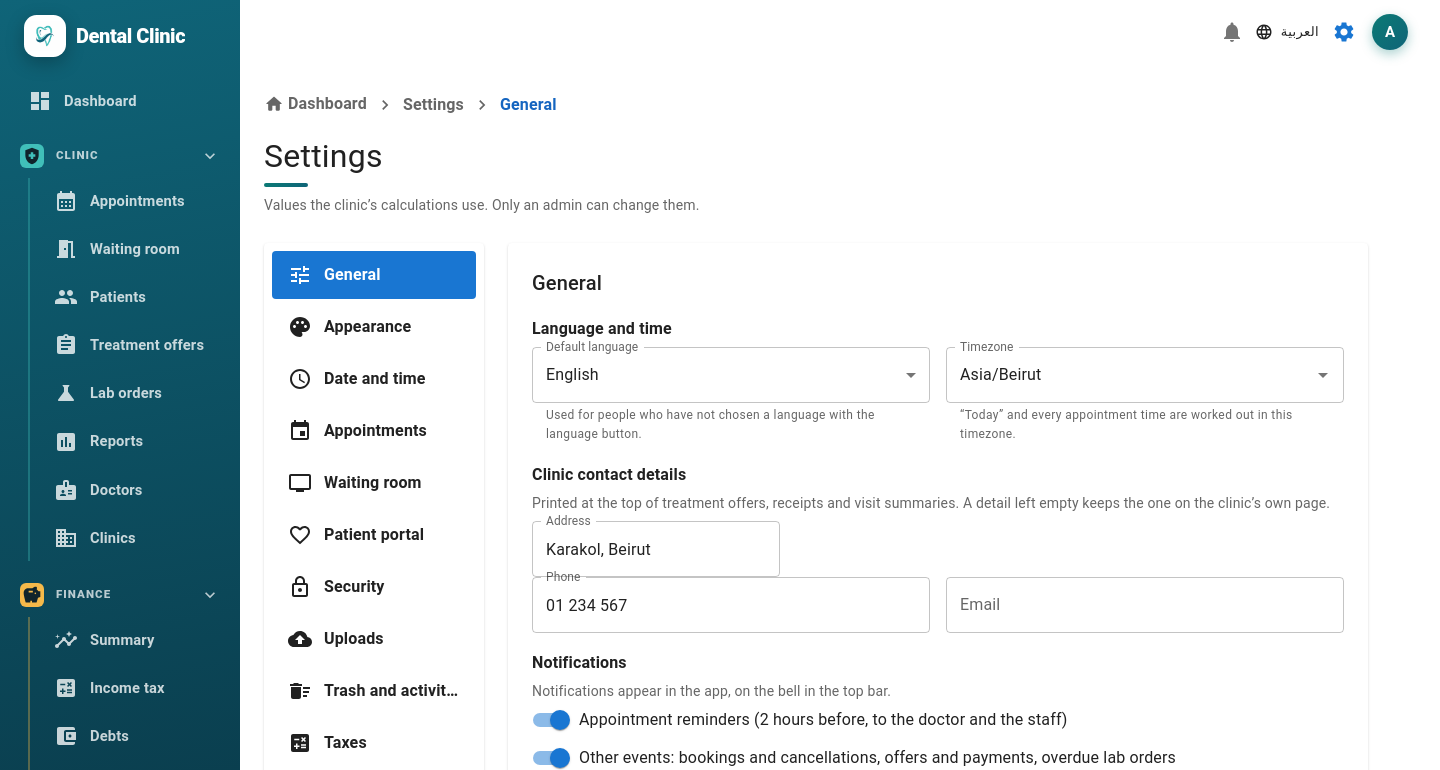
Scenario: the settings page › shows the section that was chosen, and the tax settings under Taxes
Click the link "Appearance" at coordinates (350, 326), box [288,314,411,338]
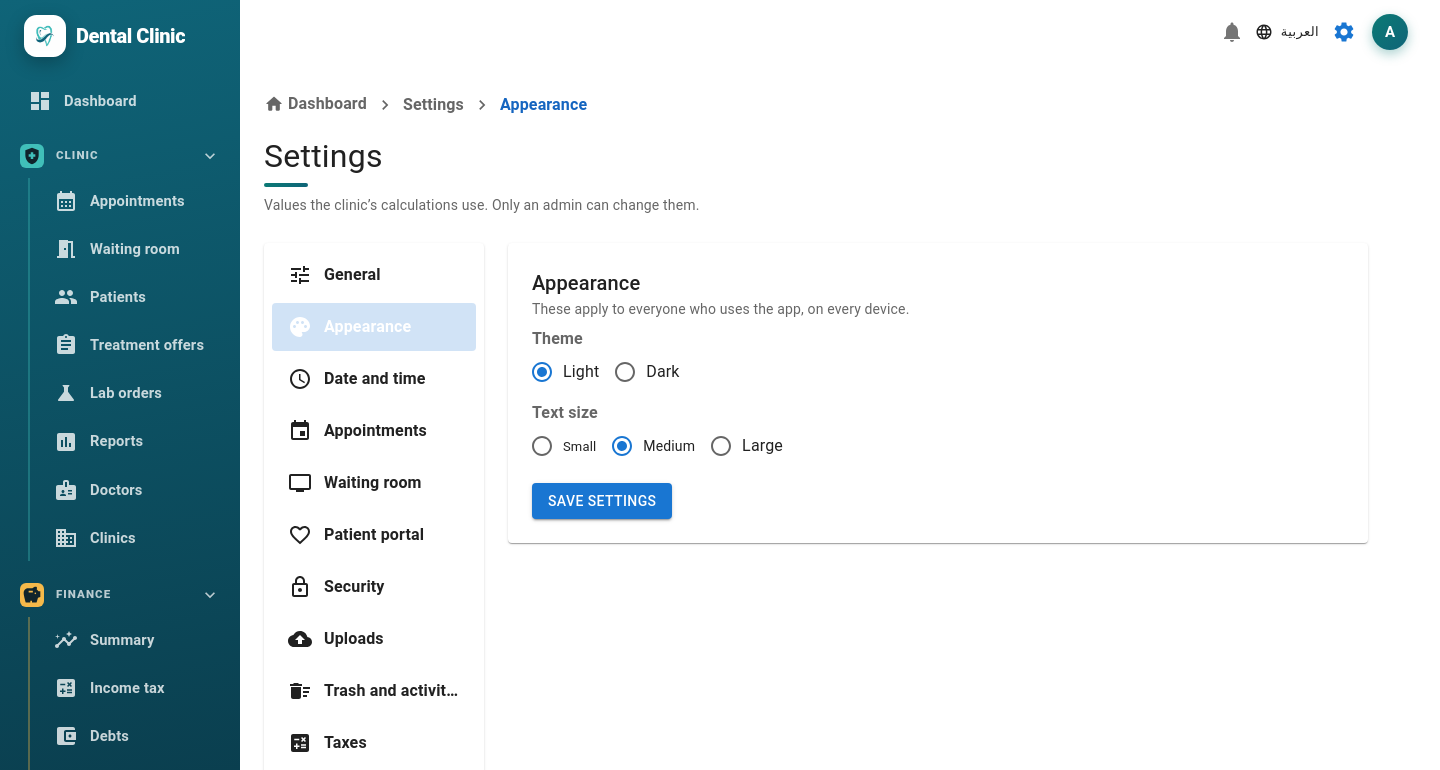
Result: the text "Text size" is shown at [532,402,598,422]
Click the link "Taxes" at coordinates (327, 742), box [288,730,367,754]
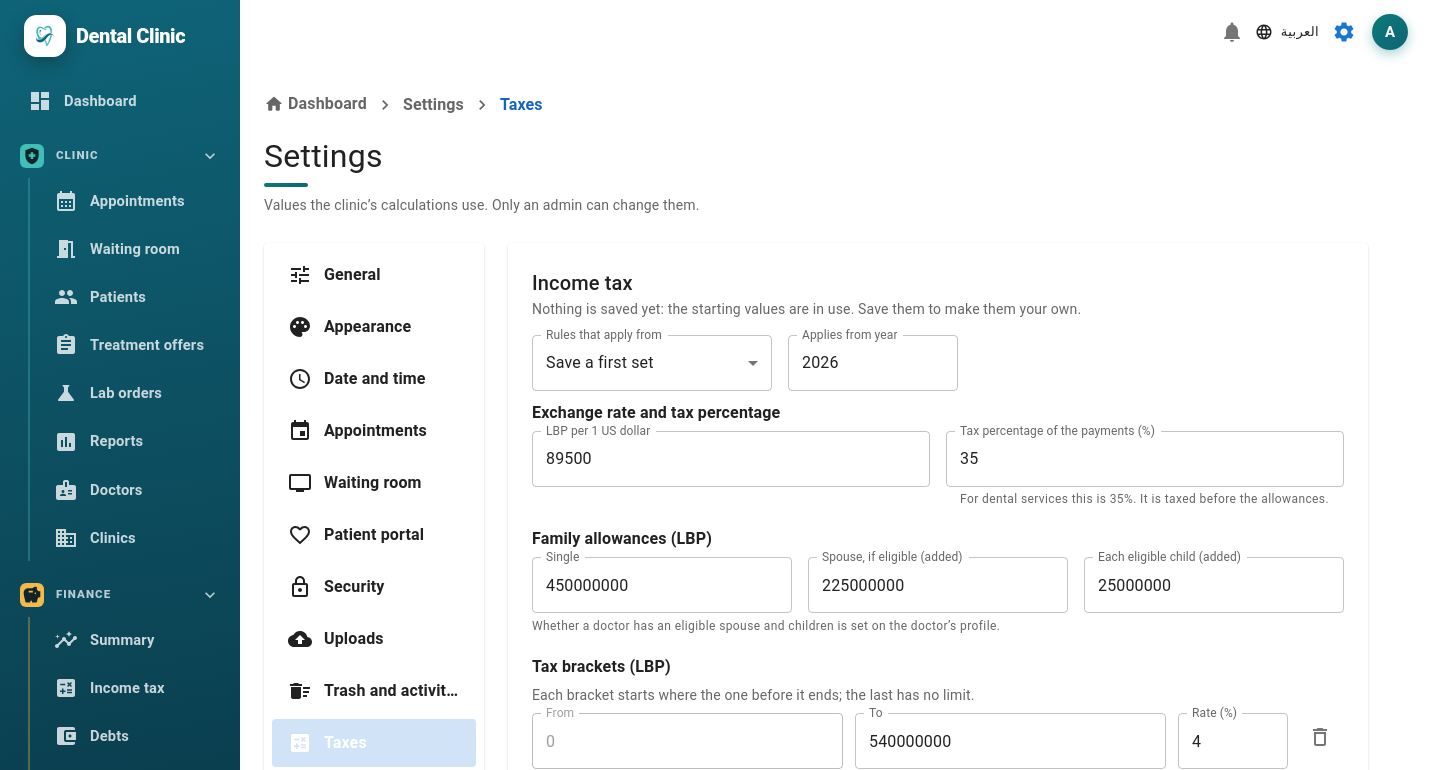
Result: the number field labelled "LBP per 1 US dollar" holds "89500" at [532,430,930,486]
